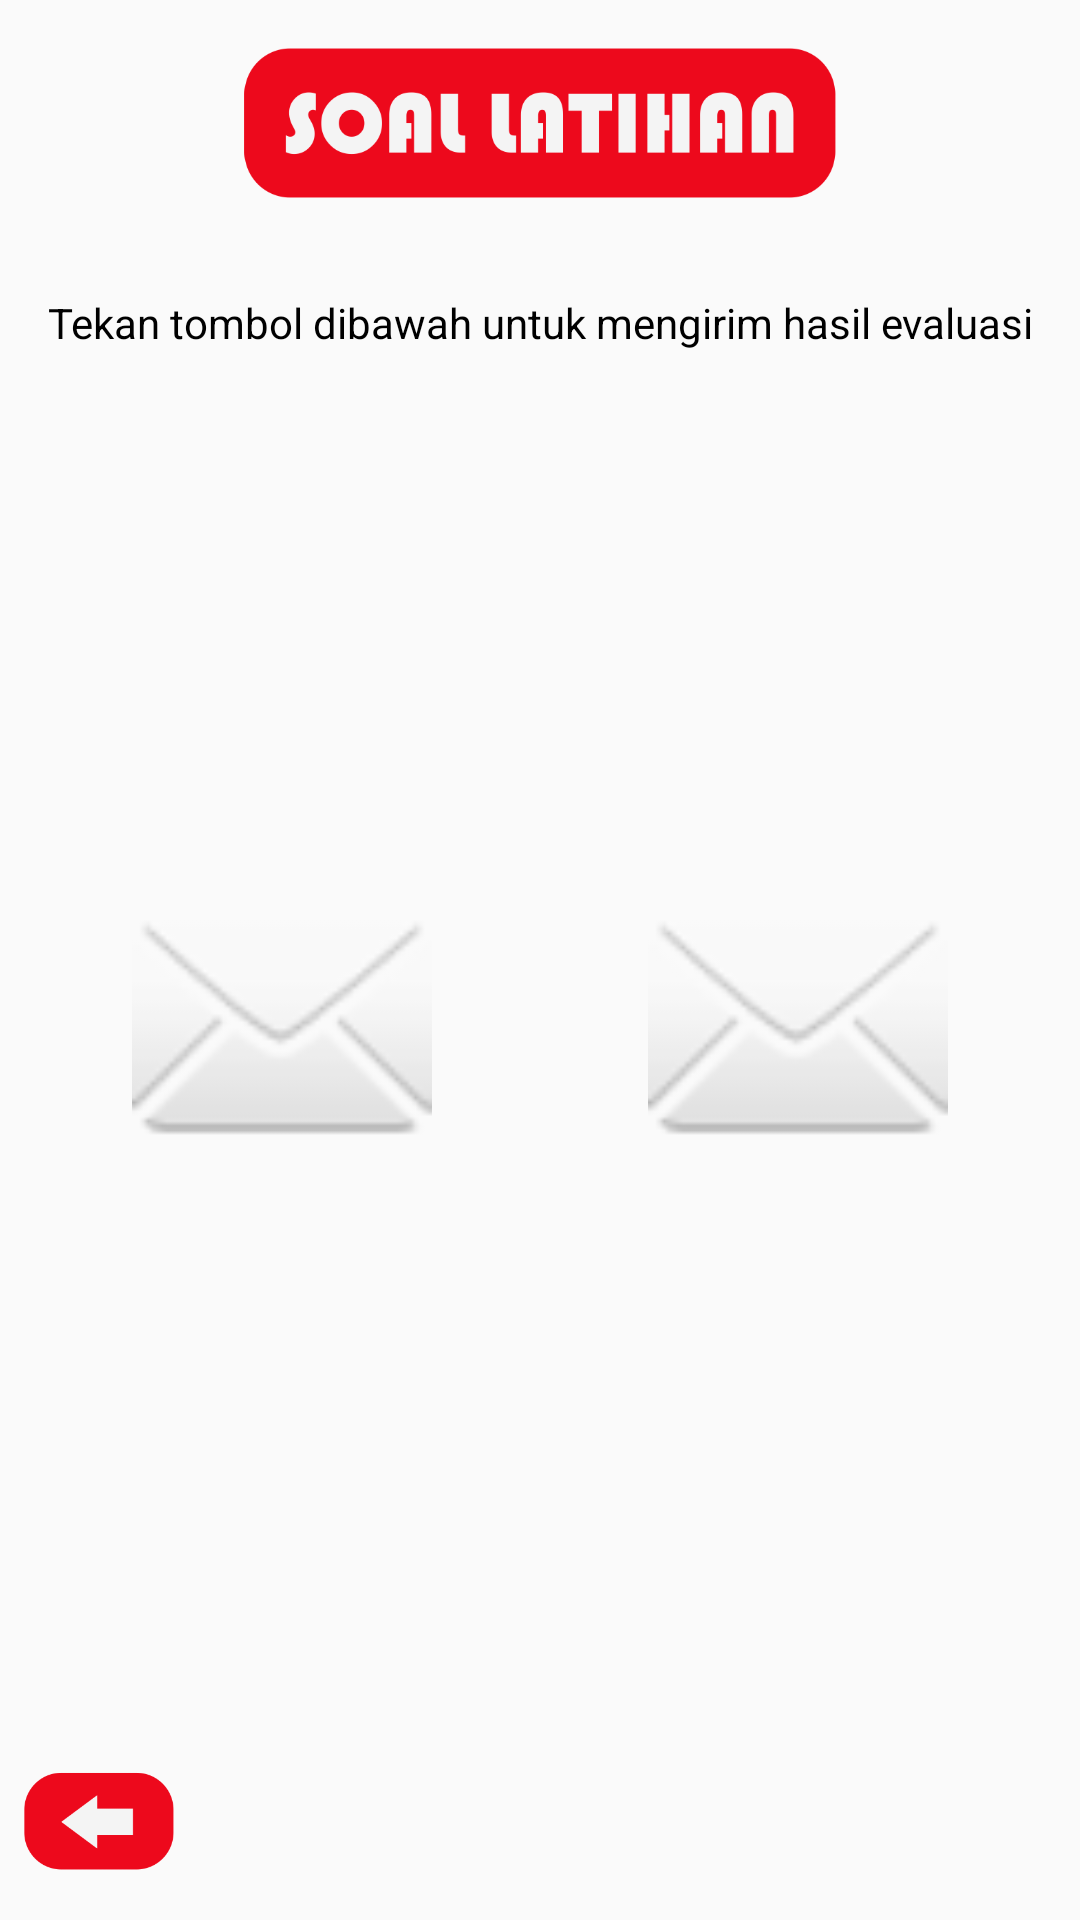

Icon click points for this 1080px×1920px phone screenshot, format (x=x, y=y):
back: (x=99, y=1821)
email: (x=282, y=1031), (x=798, y=1031)
